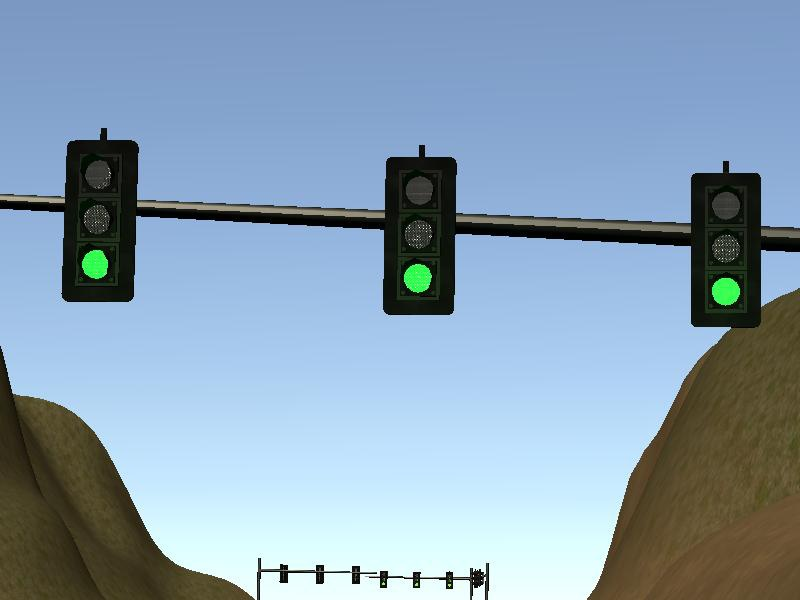green_light: (66, 142, 135, 298), (386, 158, 453, 314), (695, 174, 758, 323)
